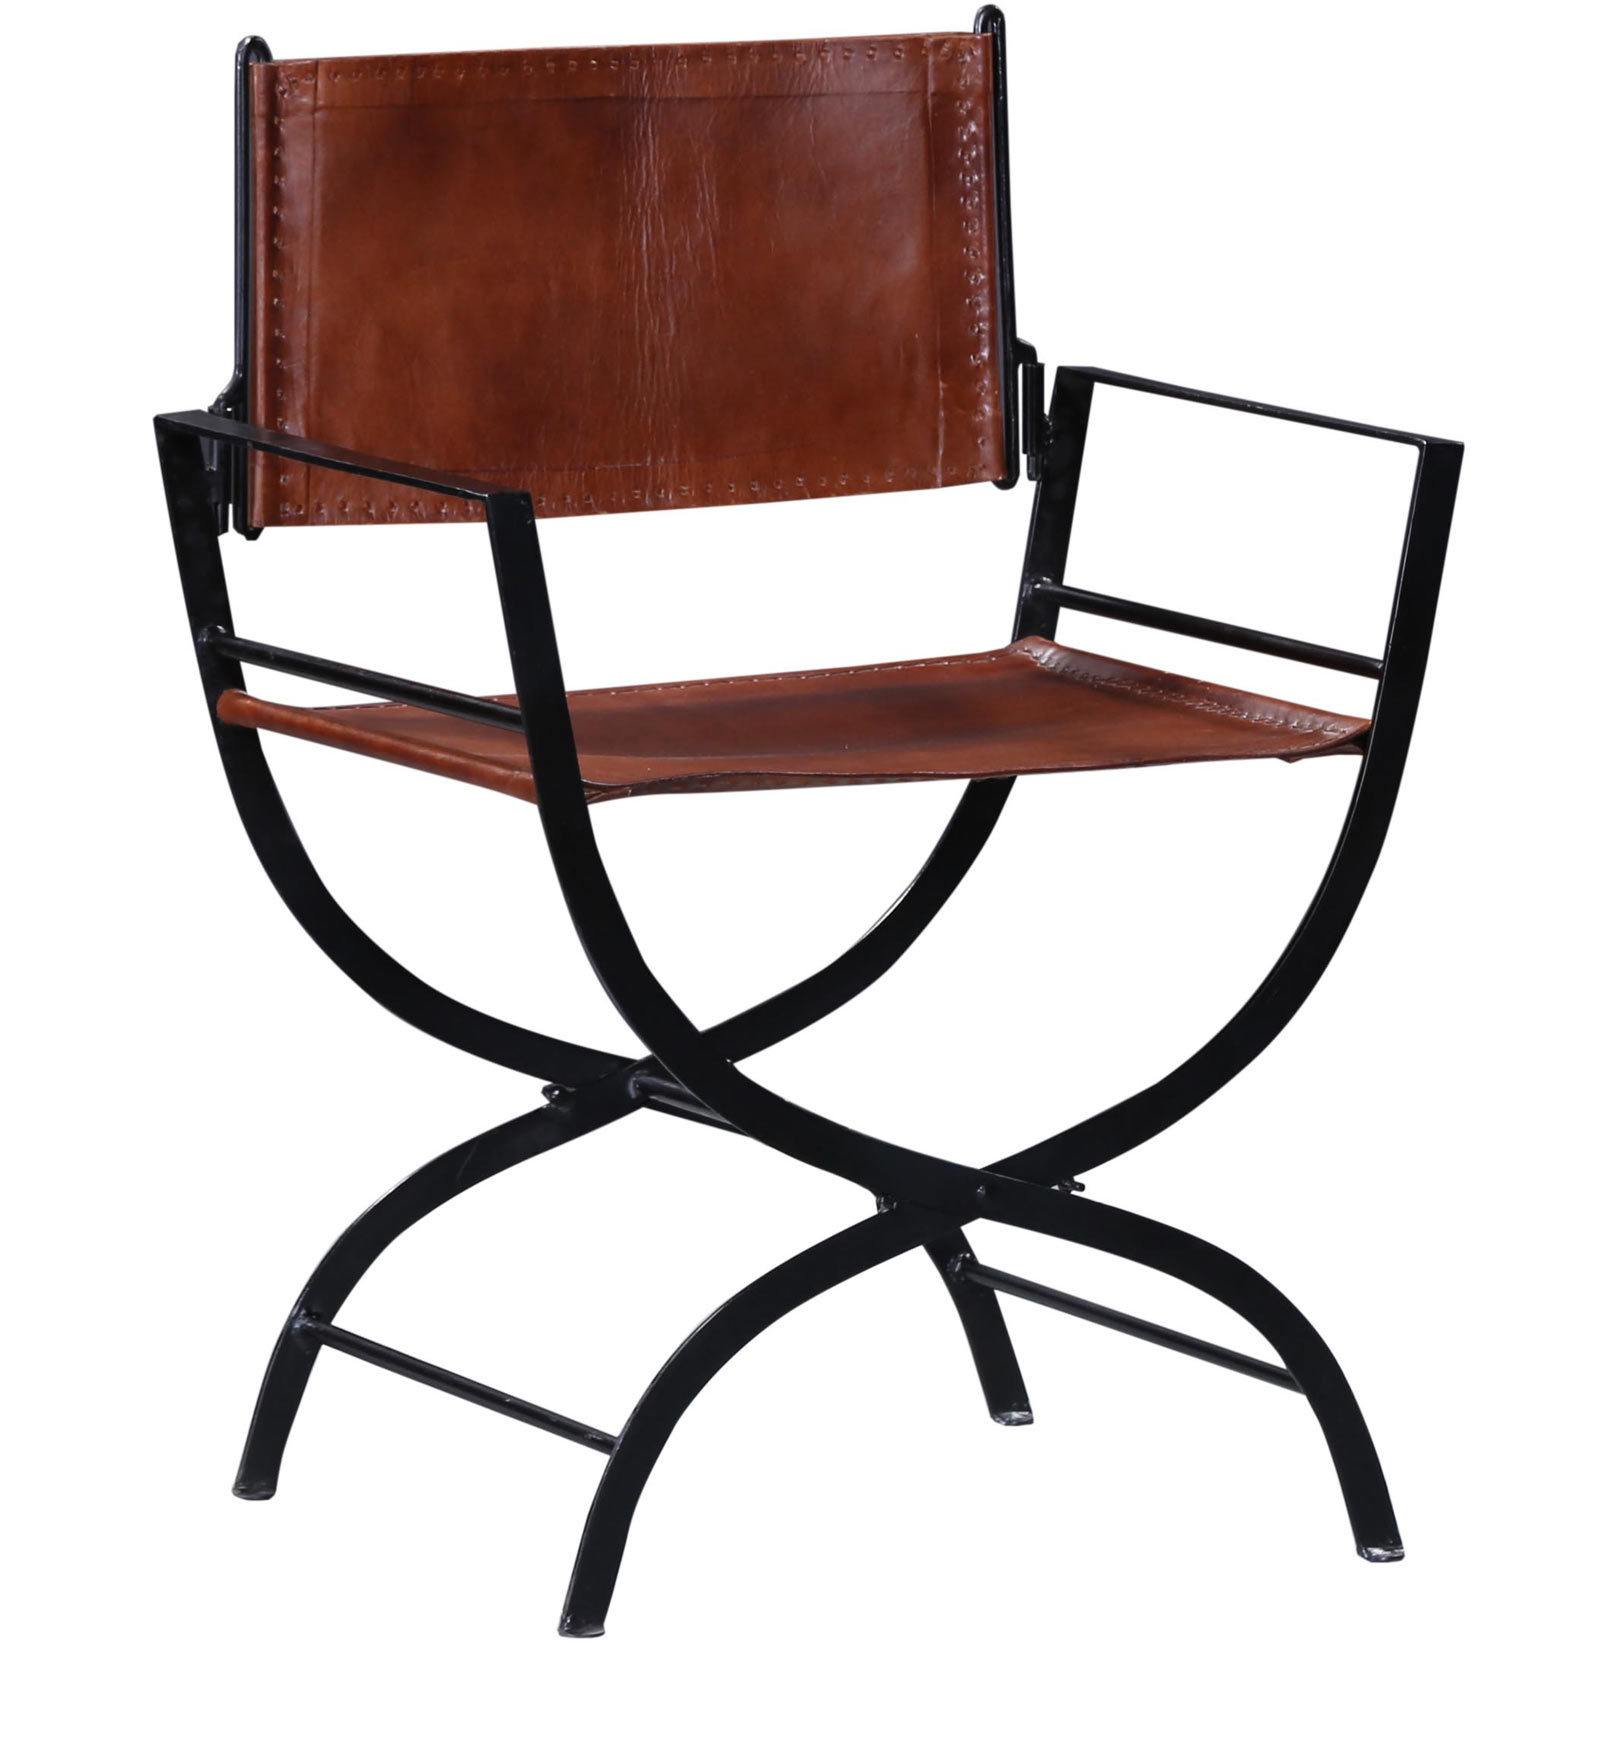Medina Metal & Leather Chair by Bohemiana: (136, 28, 1477, 1643)
